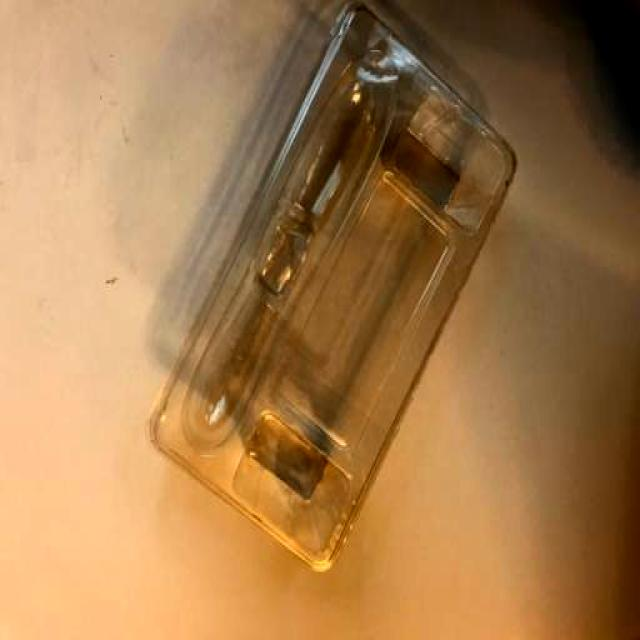Plastic: (136, 0, 535, 597)
